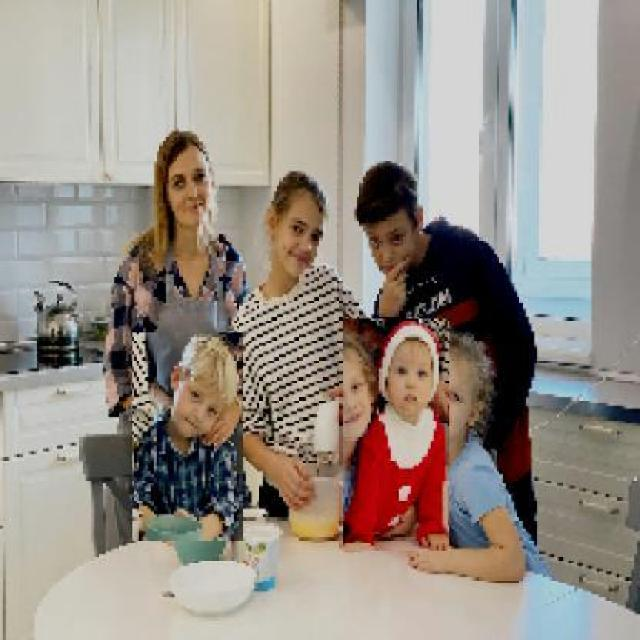child: (408, 331, 554, 580), (342, 318, 449, 552), (131, 332, 243, 542)
